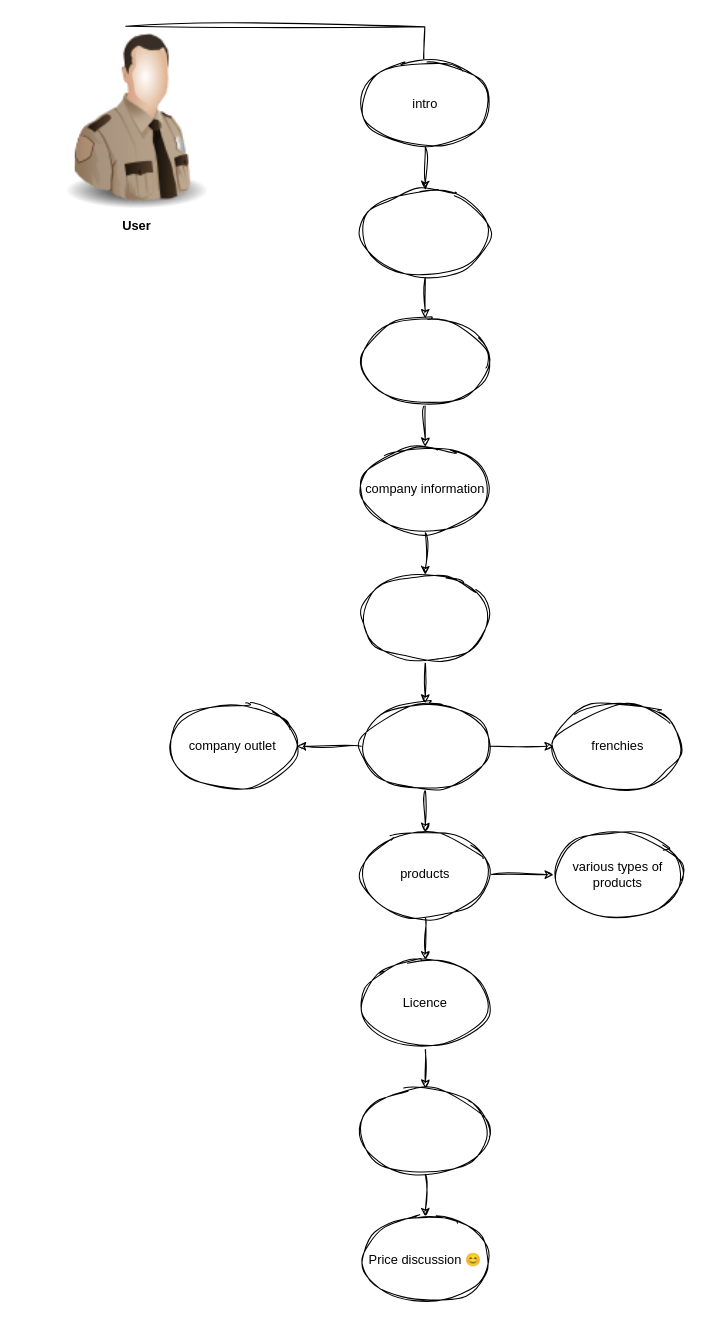
Image size: 701x1321. Some labels were removed from this diagram. Each missing label, with the centre of its shape:
company name: (x=425, y=360)
deal done: (x=425, y=1131)
logo: (x=425, y=617)
short information: (x=425, y=232)
stores/Location: (x=425, y=745)
